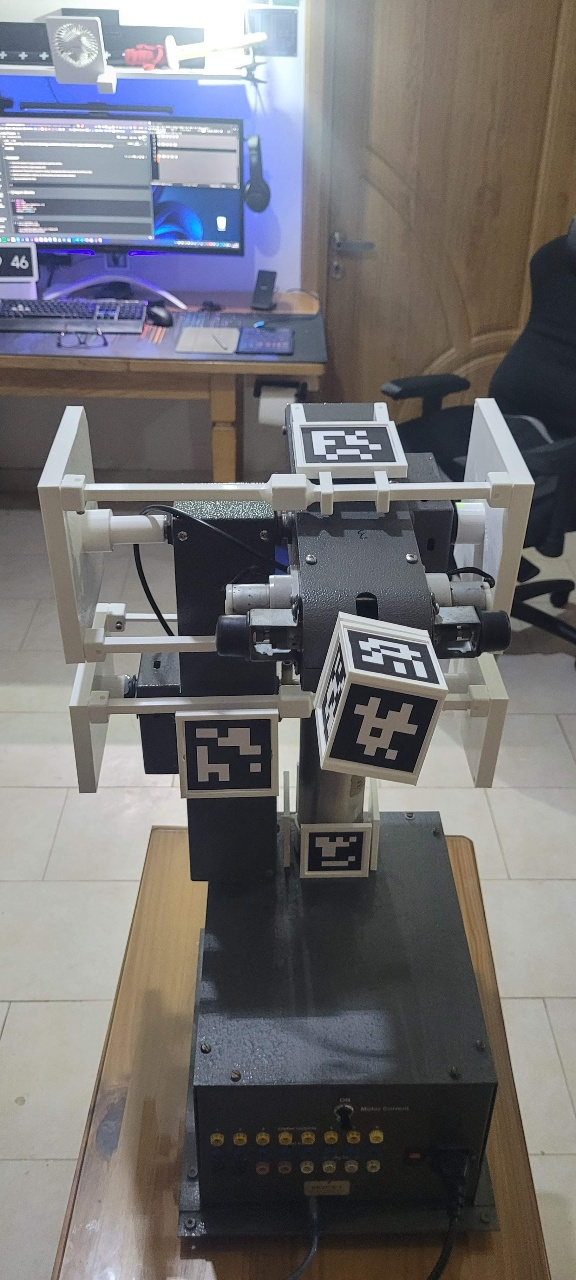Robot: (36, 398, 536, 882)
